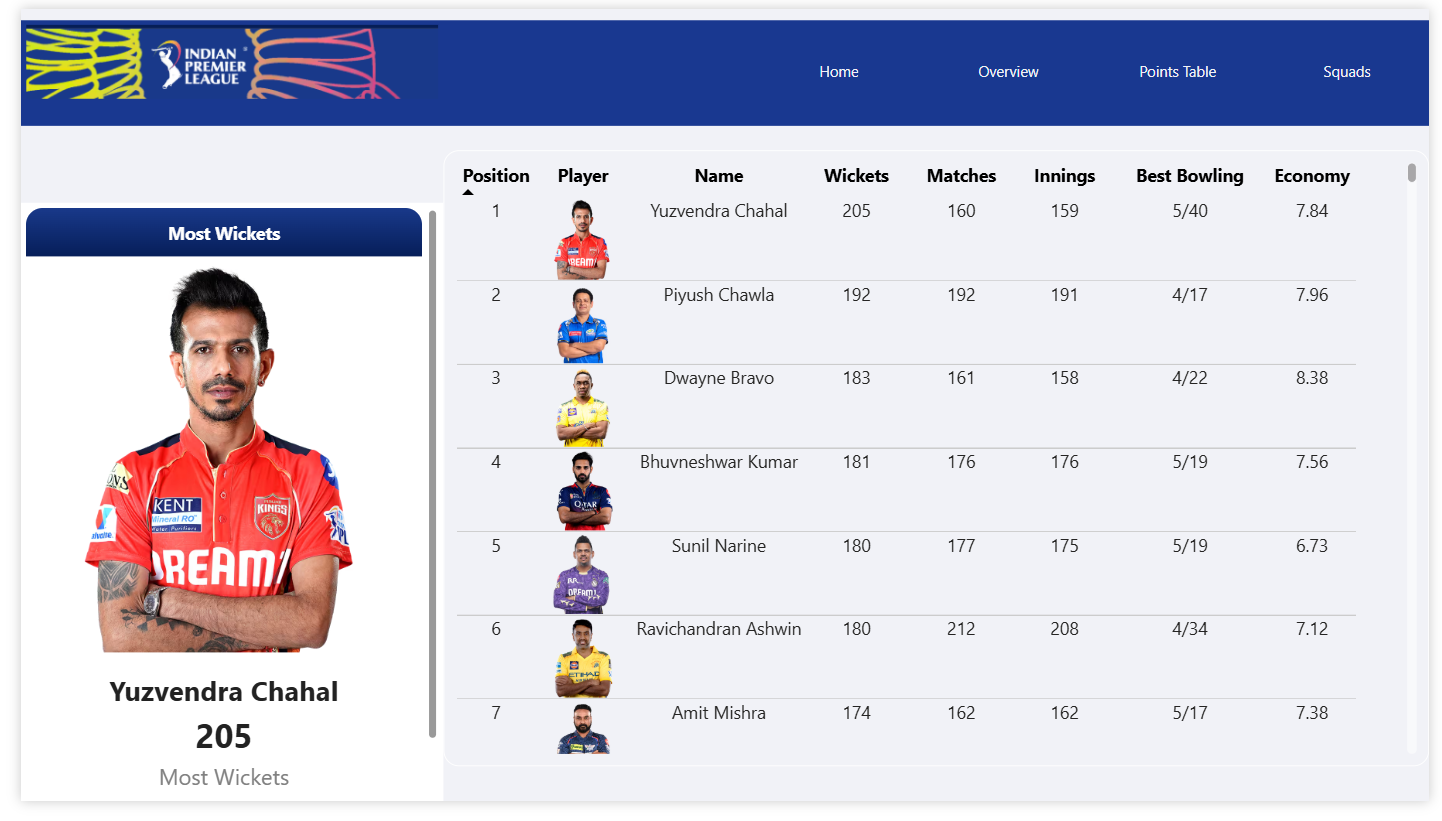

The dashboard page shown, as its layout file describes it:
{"tool":"powerbi","page":{"name":"Most Wickets","canvas":[1280,720],"ordinal":6},"visuals":[{"type":"shape","box":[0,10,1280,96],"z":0},{"type":"pageNavigator","box":[672,32,608,48],"z":1000},{"type":"htmlContent443BE3AD55E043BF878BED274D3A6855","fields":{"content":["Records.Top_Players"]},"box":[0,176,384,544],"z":2000},{"type":"image","box":[0,0,384,96],"z":3000},{"type":"tableEx","fields":{"Values":["MostWickets.Position","MostWickets.IMG","MostWickets.Name","MostWickets.Wickets","MostWickets.Mat","MostWickets.Inngs","MostWickets.BBI","MostWickets.ECON"]},"box":[384,128,896,560],"z":4000}]}

Visuals, with their boxes in screenshot pixels (x1, y1, x2, y2), scaled from the page's 1280x720 canvas onto the 1442x821 screenshot:
shape: box(0, 11, 1441, 121)
pageNavigator: box(757, 36, 1441, 91)
htmlContent443BE3AD55E043BF878BED274D3A6855 - Records.Top_Players: box(0, 201, 433, 820)
image: box(0, 0, 433, 109)
tableEx - MostWickets.Position x MostWickets.IMG: box(433, 146, 1441, 785)
